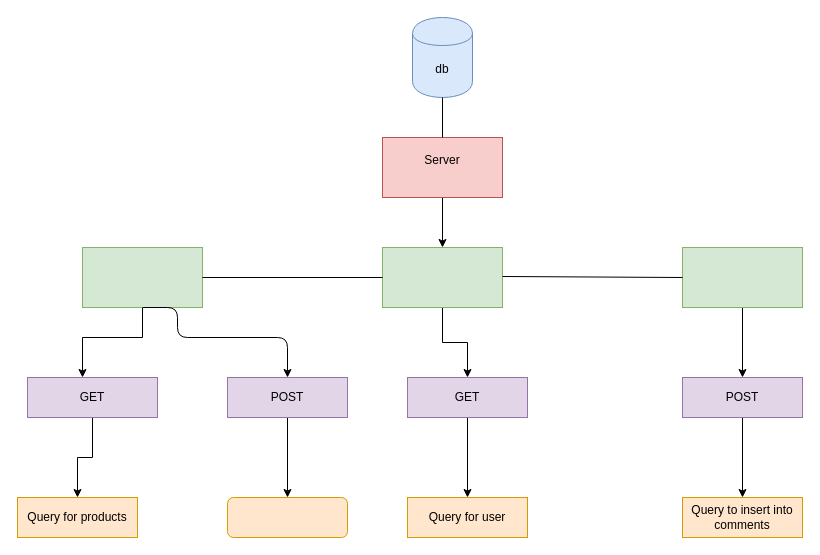
The diagram is 820 pixels wide and 555 high, and some of its shapes have lost their labels. The centre of each missing label's shape, as x and y in pixels:
"endpoint/contact" goes at [742,277].
"endpoint/index" goes at [442,277].
"endpoint/products" goes at [142,277].
"query to make purchase" goes at [287,517].
